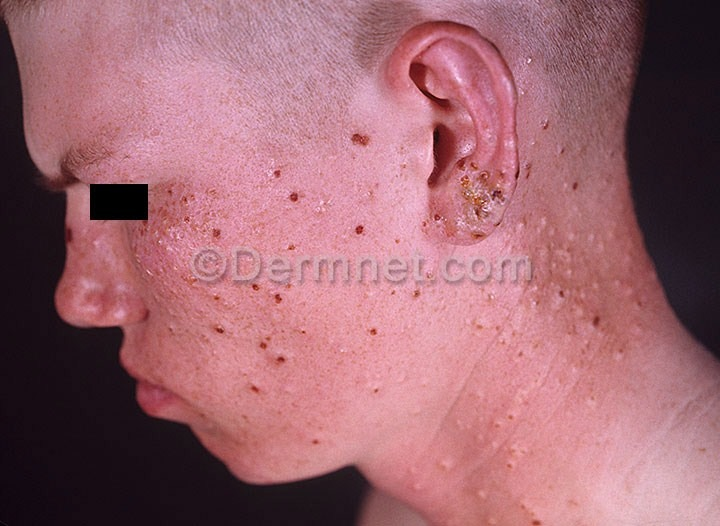Melasma: (325, 0, 720, 117)
